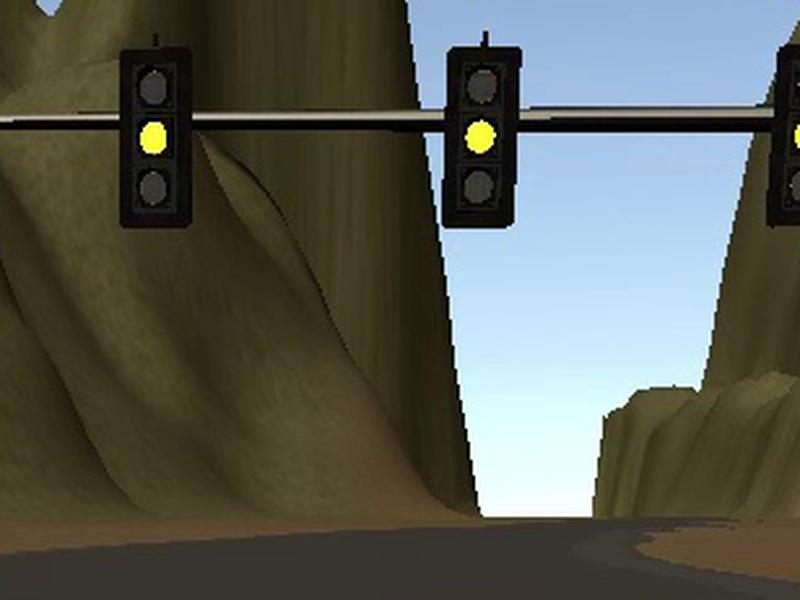Yellow: (441, 46, 522, 228), (118, 46, 192, 229), (765, 43, 800, 226)
